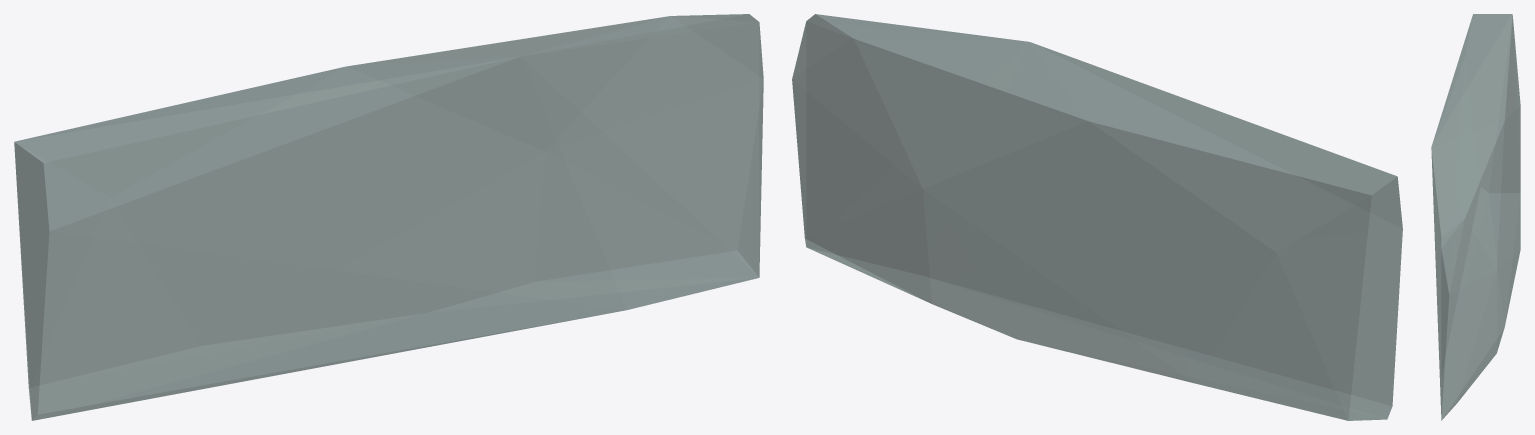
3 views of the same model, side by side, from view 1: azimuth 30°, elevation 25°; view 2: azimuth 150°, elevation 25°; view 3: azimuth 270°, elevation 25° (orthographic). The views are drawn at different scales.
Visible parts, largest first — view 1: Shape_IndexedFaceSet.010_Shape_IndexedFaceSet.11154; view 2: Shape_IndexedFaceSet.010_Shape_IndexedFaceSet.11154; view 3: Shape_IndexedFaceSet.010_Shape_IndexedFaceSet.11154.
Boxes of the visible parts, bbox=[...] form: Shape_IndexedFaceSet.010_Shape_IndexedFaceSet.11154: bbox=[14, 14, 763, 420]; Shape_IndexedFaceSet.010_Shape_IndexedFaceSet.11154: bbox=[792, 14, 1402, 420]; Shape_IndexedFaceSet.010_Shape_IndexedFaceSet.11154: bbox=[1431, 14, 1520, 420].
Bounding box in the file's own units: 0.2265 × 0.0883 × 0.037.
